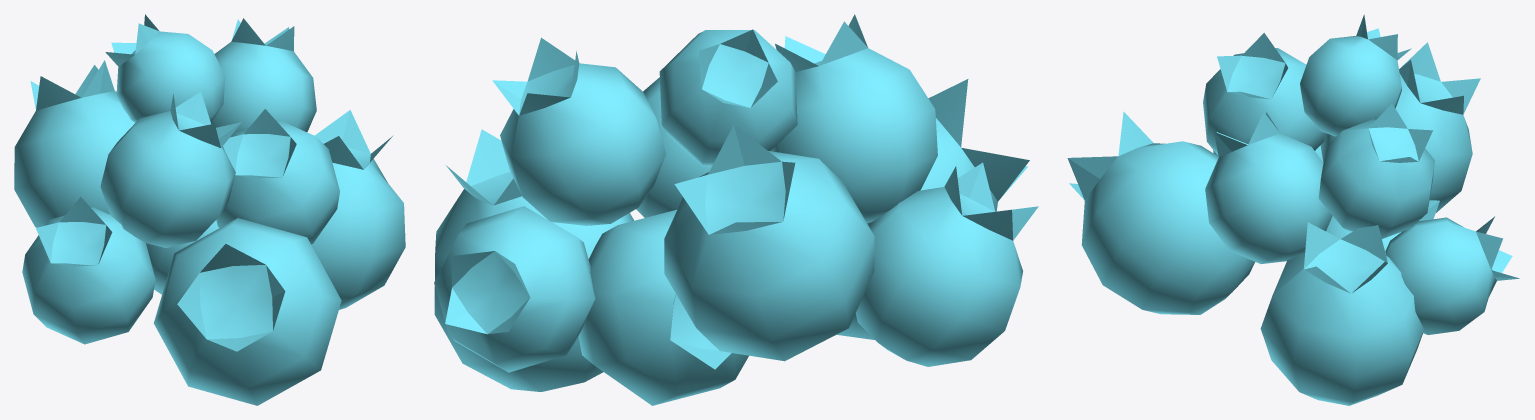
The model's file is g_blueberry.fbx.
3 views of the same model, side by side, from view 1: azimuth 30°, elevation 25°; view 2: azimuth 150°, elevation 25°; view 3: azimuth 270°, elevation 25° (orthographic). The views are drawn at different scales.
Visible parts, largest first — view 1: s_blueberry_berries.001; view 2: s_blueberry_berries.001; view 3: s_blueberry_berries.001.
Part boxes in pixels (bbox=[...]): s_blueberry_berries.001: bbox=[14, 14, 405, 405]; s_blueberry_berries.001: bbox=[434, 14, 1038, 405]; s_blueberry_berries.001: bbox=[1067, 14, 1519, 405].
Bounding box in the file's own units: 44.36 × 45.44 × 33.47.
